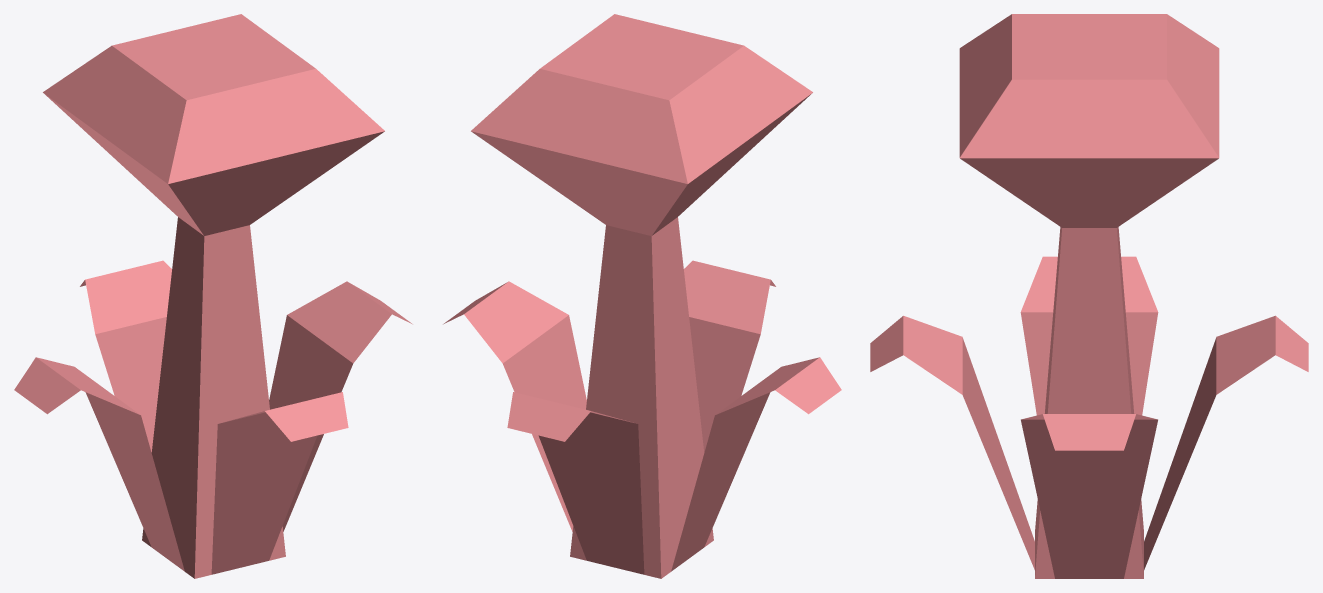
The model's file is flower_red2.fbx.
3 views of the same model, side by side, from view 1: azimuth 30°, elevation 25°; view 2: azimuth 150°, elevation 25°; view 3: azimuth 270°, elevation 25° (orthographic). The views are drawn at different scales.
Visible parts, largest first — view 1: flower_red2; view 2: flower_red2; view 3: flower_red2.
Part boxes in pixels (box(x1,y1,x2,y2)): flower_red2: box(14, 14, 412, 578); flower_red2: box(443, 14, 841, 578); flower_red2: box(870, 14, 1308, 578).
Size of the model in its own units: 51.43 by 65.88 by 51.43.
